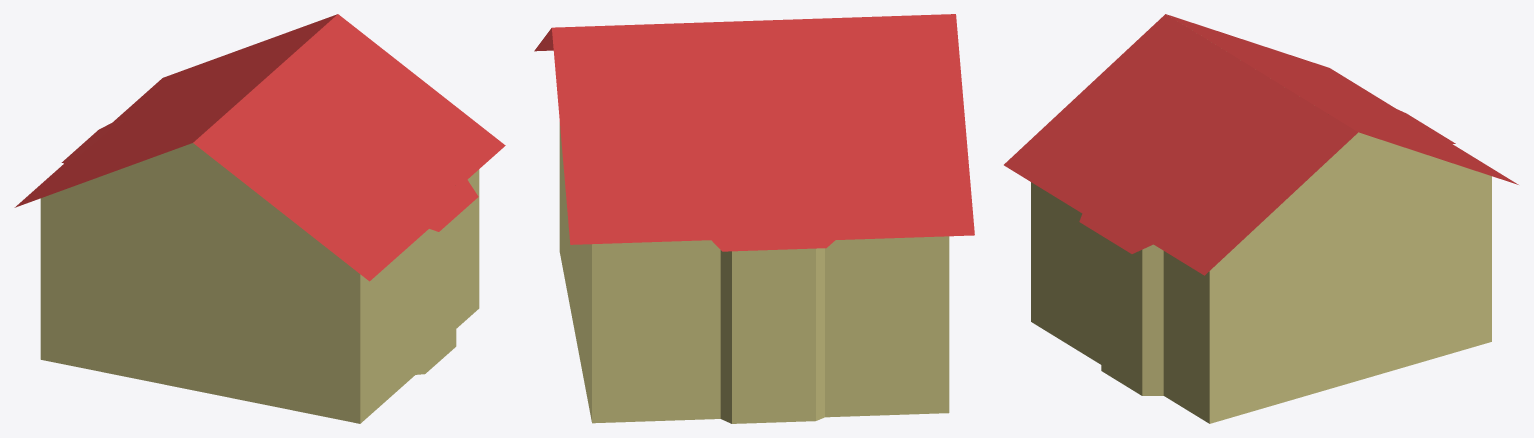
The picture shows the model from 3 angles, left to right: view 1: azimuth 30°, elevation 25°; view 2: azimuth 150°, elevation 25°; view 3: azimuth 270°, elevation 25°; orthographic projection. The views are drawn at different scales.
Size of the model in its own units: 25.12 by 25.98 by 14.35.
